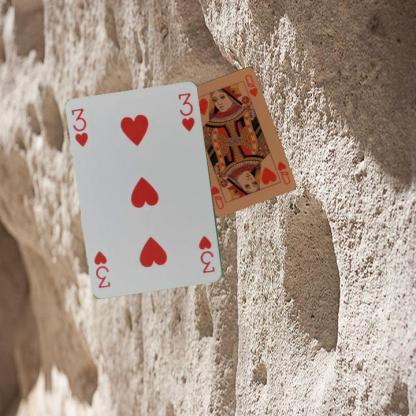3h: (68, 106, 90, 148), (196, 233, 216, 274)
Qh: (274, 158, 292, 186)
